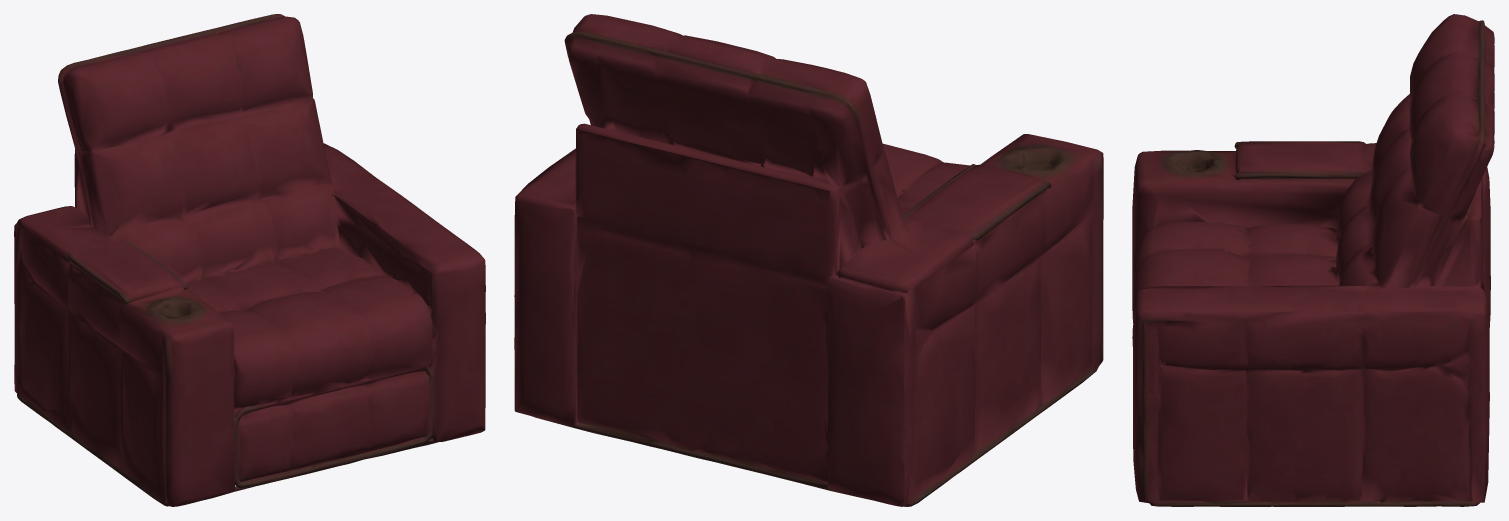
File: KF6QdDeQnNzGS5wm-M8eO.glb
3 renders of one model, left to right at view 1: azimuth 30°, elevation 25°; view 2: azimuth 150°, elevation 25°; view 3: azimuth 270°, elevation 25°, orthographic. The views are drawn at different scales.
Parts seen in each view (by area): view 1: geometry_0; view 2: geometry_0; view 3: geometry_0.
Boxes of the visible parts, x1=… form: geometry_0: x1=14, y1=14, x2=485, y2=506; geometry_0: x1=514, y1=14, x2=1103, y2=506; geometry_0: x1=1132, y1=14, x2=1494, y2=506.
Bounding box in the file's own units: 0.9952 × 0.9575 × 0.8898.
Materials: 1 (1 with a texture image).
